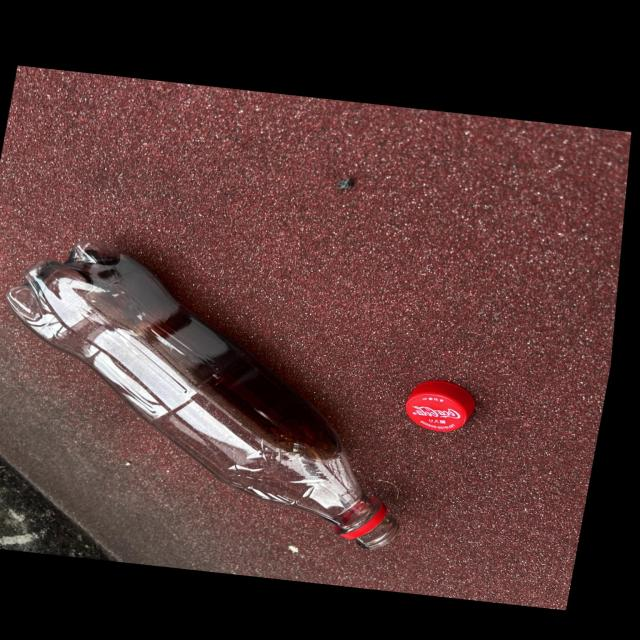low: (7, 242, 397, 549)
